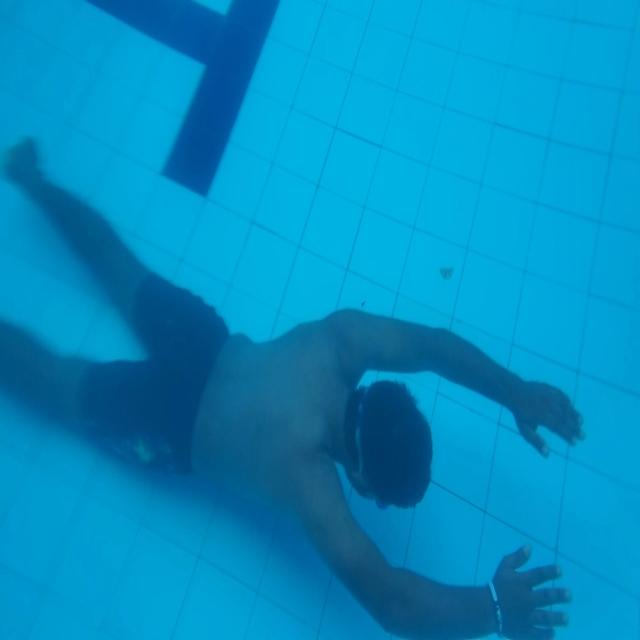Drowning: (0, 132, 588, 640)
